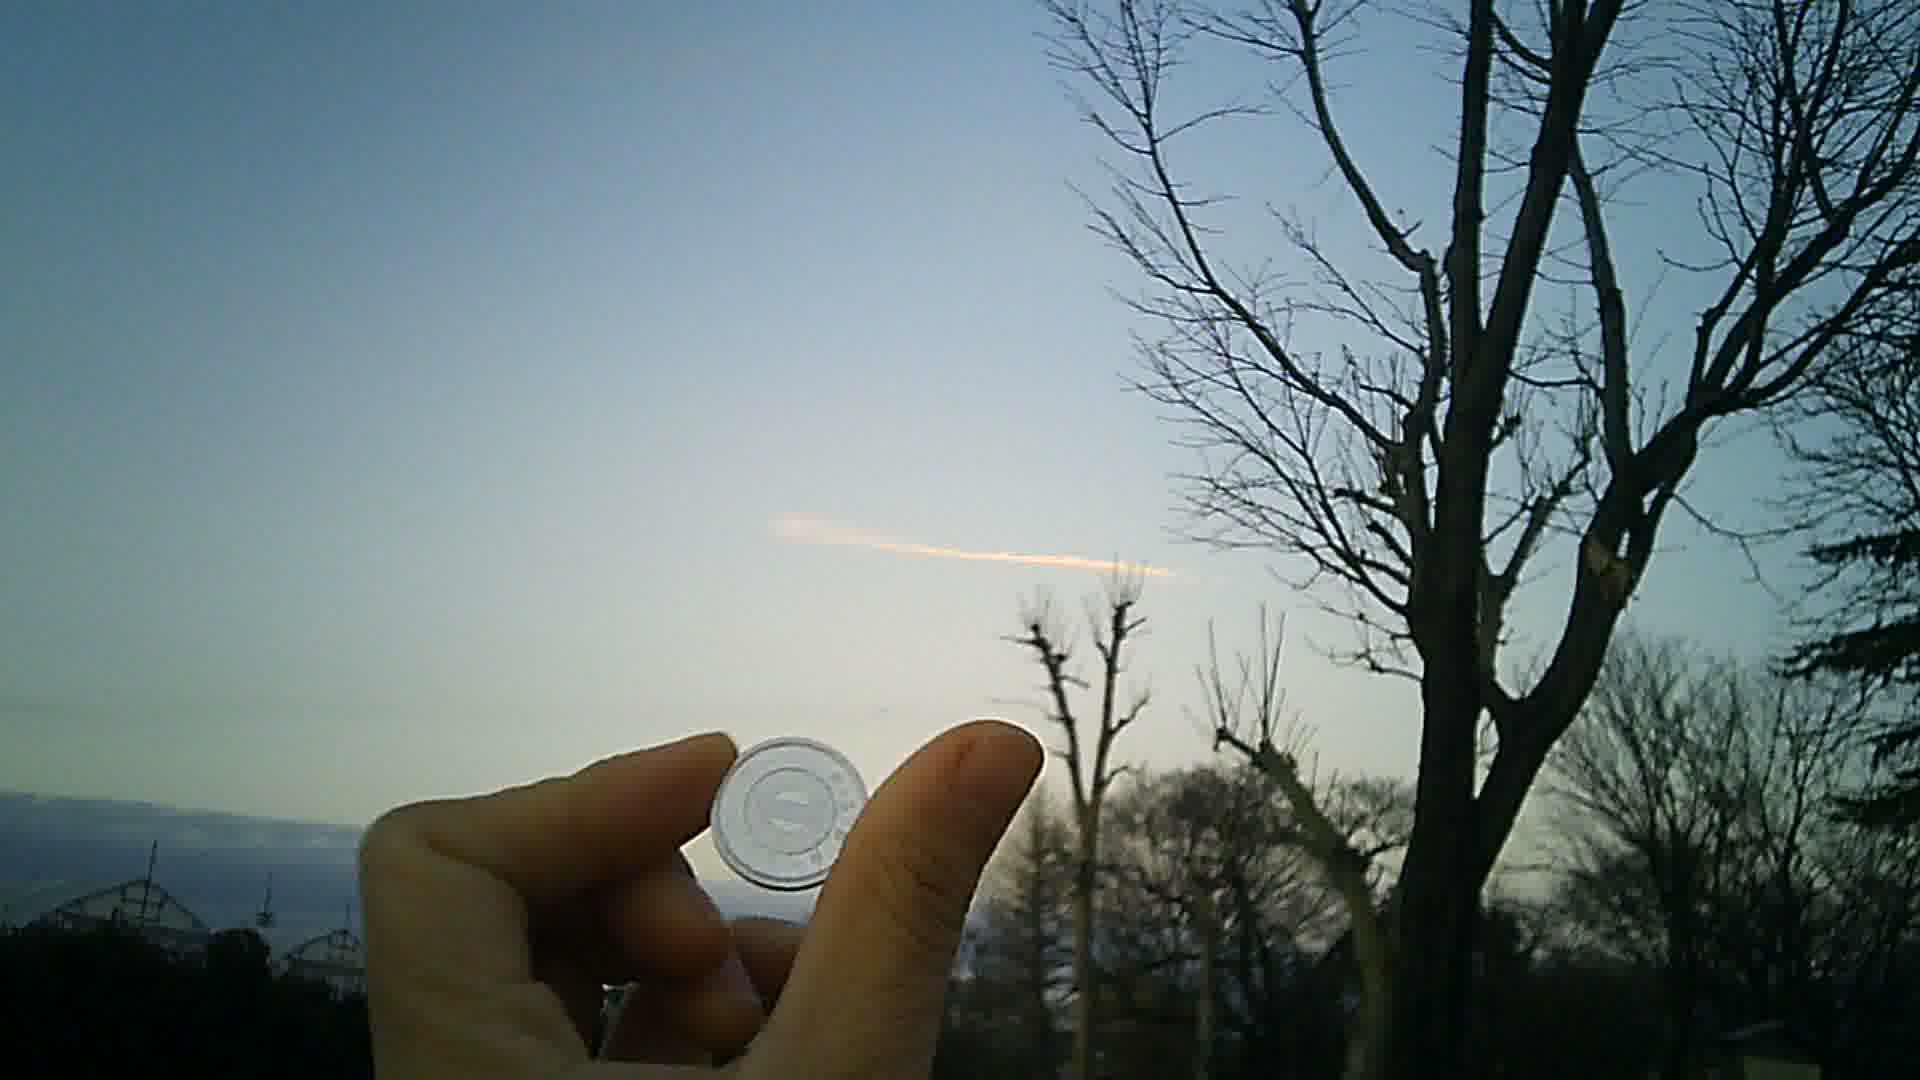1 Yen: (696, 733, 876, 891)
